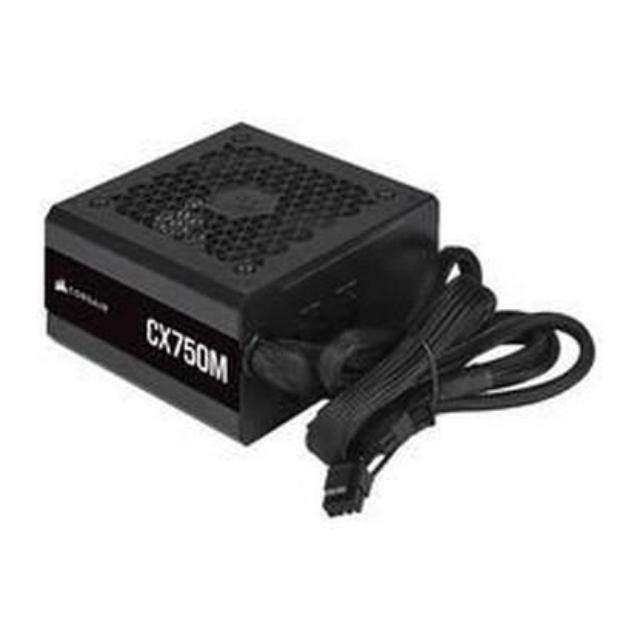PSU: (29, 109, 454, 454)
